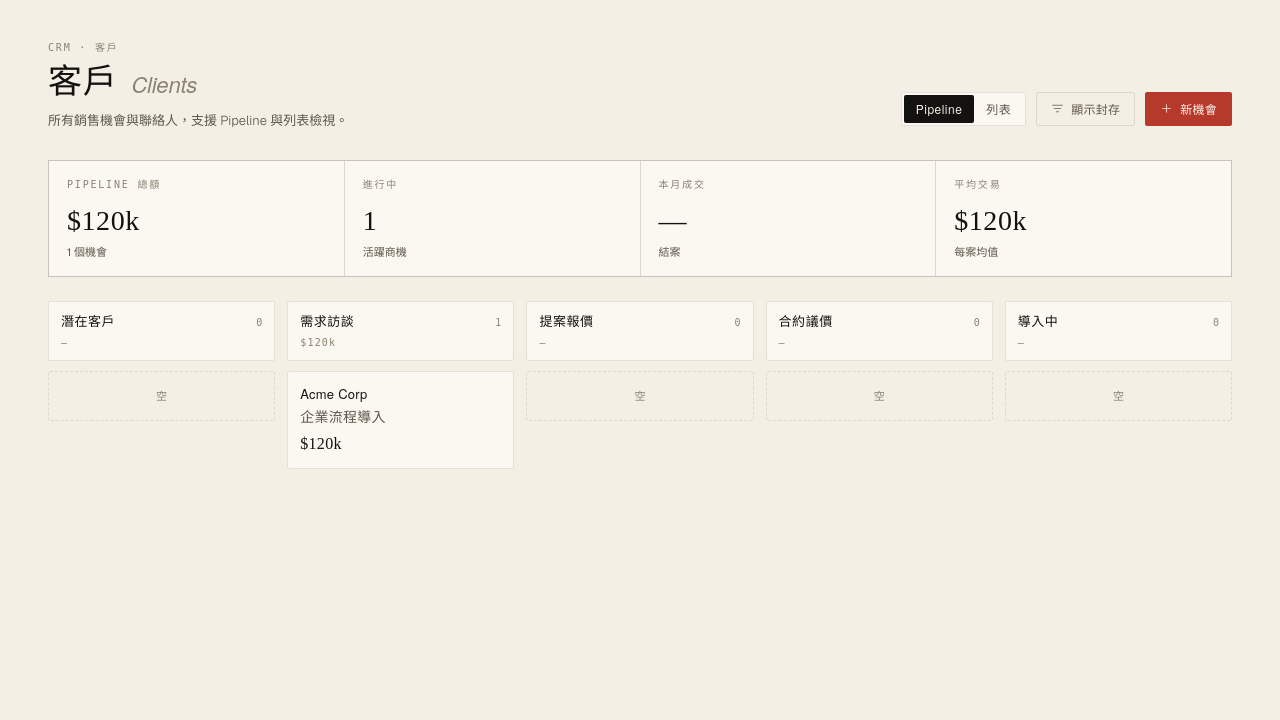
Scenario: ZenInkClientsWorkspace › opens new deal modal from 新機會 CTA
Click the button "新機會" at (1189, 109), box [1145,92,1232,126]
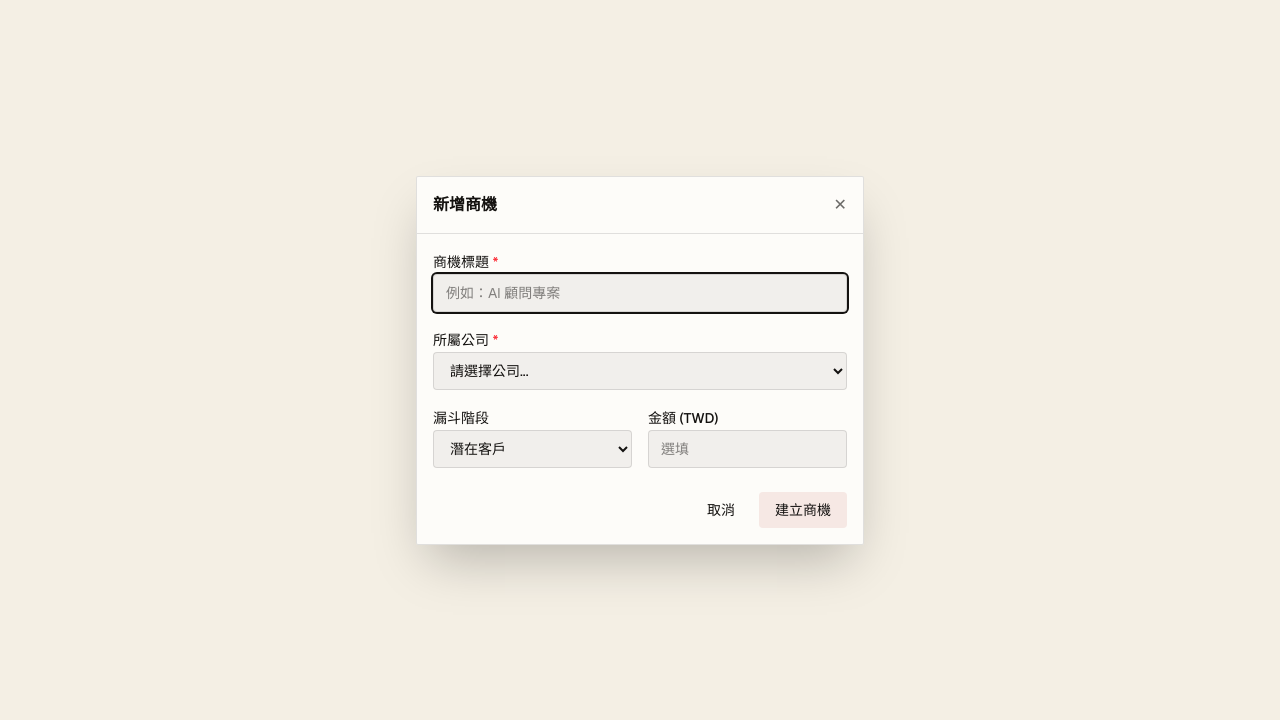
Expected: the heading "新增商機" is shown, [433,192,497,216]
Expected: the button "建立商機" is shown, [759,492,847,528]
